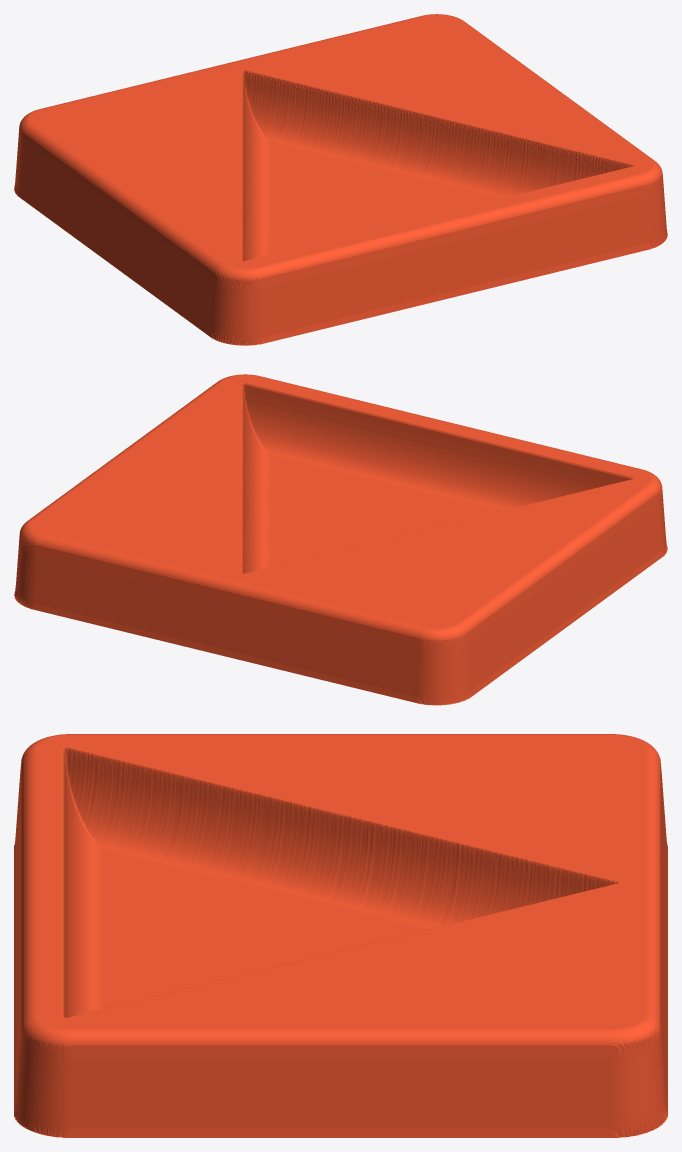
Rendered from mold.glb.
3 renders of one model, top to bottom at view 1: azimuth 30°, elevation 25°; view 2: azimuth 150°, elevation 25°; view 3: azimuth 270°, elevation 25°, orthographic. The views are drawn at different scales.
Parts seen in each view (by area): view 1: geometry_0; view 2: geometry_0; view 3: geometry_0.
Boxes of the visible parts, x1,y1,x2,y2 form: geometry_0: (14,14,667,345); geometry_0: (14,374,667,705); geometry_0: (14,734,667,1137).
Size of the model in its own units: 0.1178 by 0.0175 by 0.1042.
